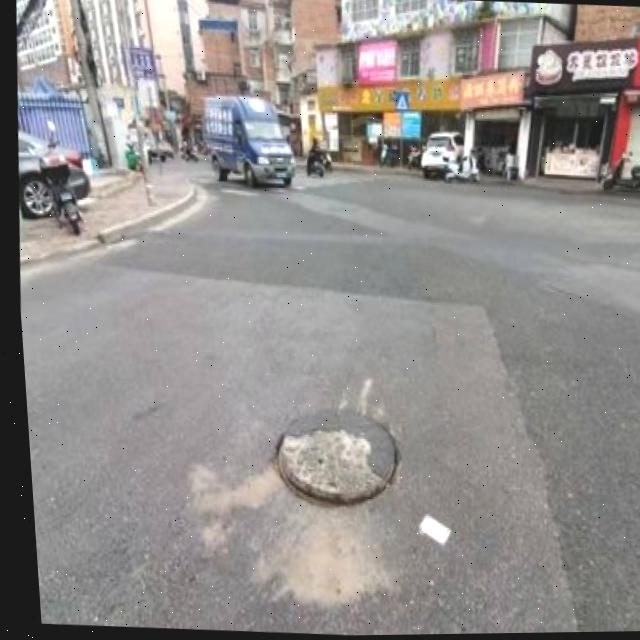manhole: (259, 398, 400, 512)
